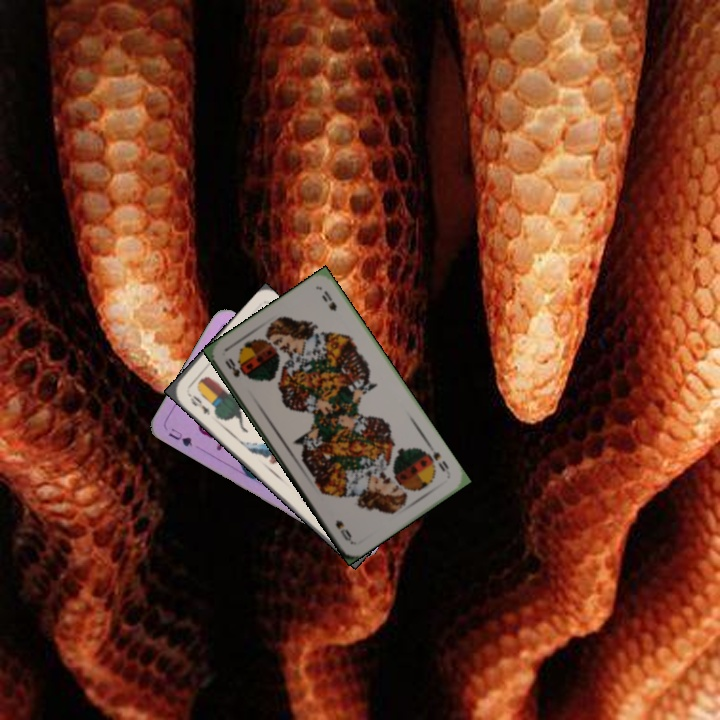EO: (183, 389, 213, 418)
GU: (164, 424, 195, 449)
SO: (221, 354, 248, 380), (429, 447, 451, 474)
